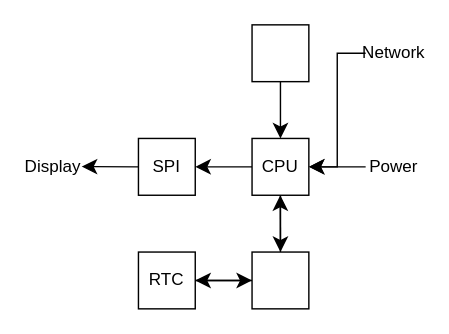
The diagram is 449 pixels wide and 334 high, and some of its shapes have lost their labels. Here are the shapes that lost their labels. From the top down, the centre of each, then its label:
point (280, 52): USB
point (280, 280): I2C
